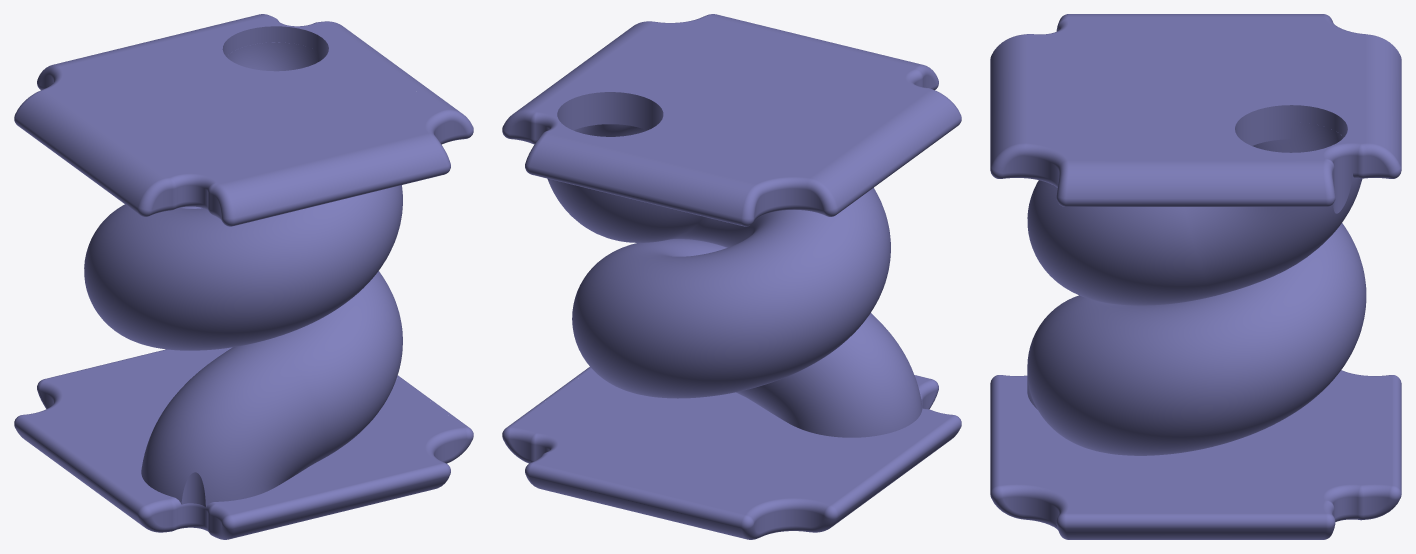
Rendered from whee.gltf.
3 renders of one model, left to right at view 1: azimuth 30°, elevation 25°; view 2: azimuth 150°, elevation 25°; view 3: azimuth 270°, elevation 25°, orthographic. The views are drawn at different scales.
Parts seen in each view (by area): view 1: TransformZUpToYUp; view 2: TransformZUpToYUp; view 3: TransformZUpToYUp.
Boxes of the visible parts, left/top/right/bottom form: TransformZUpToYUp: left=14, top=14, right=473, bottom=539; TransformZUpToYUp: left=502, top=14, right=961, bottom=539; TransformZUpToYUp: left=990, top=14, right=1401, bottom=539.
Bounding box in the file's own units: 43.66 × 44 × 43.66.
